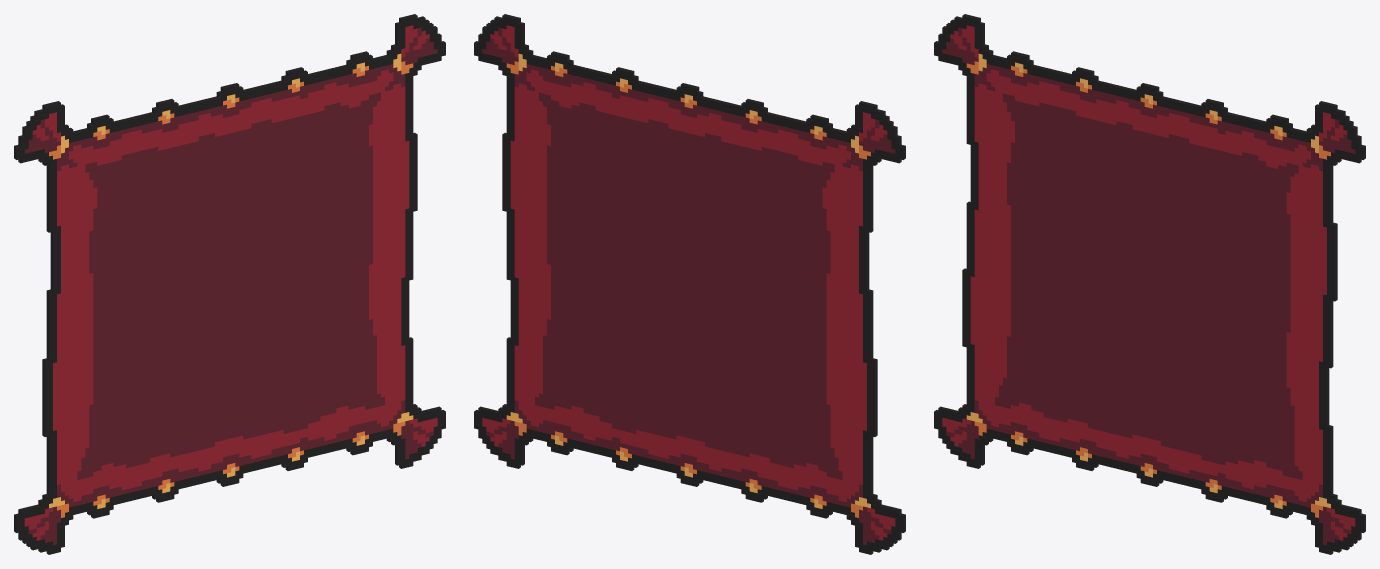
File: pad.gltf
The picture shows the model from 3 angles, left to right: view 1: azimuth 30°, elevation 25°; view 2: azimuth 150°, elevation 25°; view 3: azimuth 330°, elevation 25°; orthographic projection.
Parts seen in each view (by area): view 1: pad; view 2: pad; view 3: pad.
Part boxes in pixels (<box>): pad: <box>14,14,445,554</box>; pad: <box>474,14,905,554</box>; pad: <box>934,14,1365,554</box>.
Size of the model in its own units: 0.8281 by 0.8281 by 0.00781.
1 material, 1 textured.
